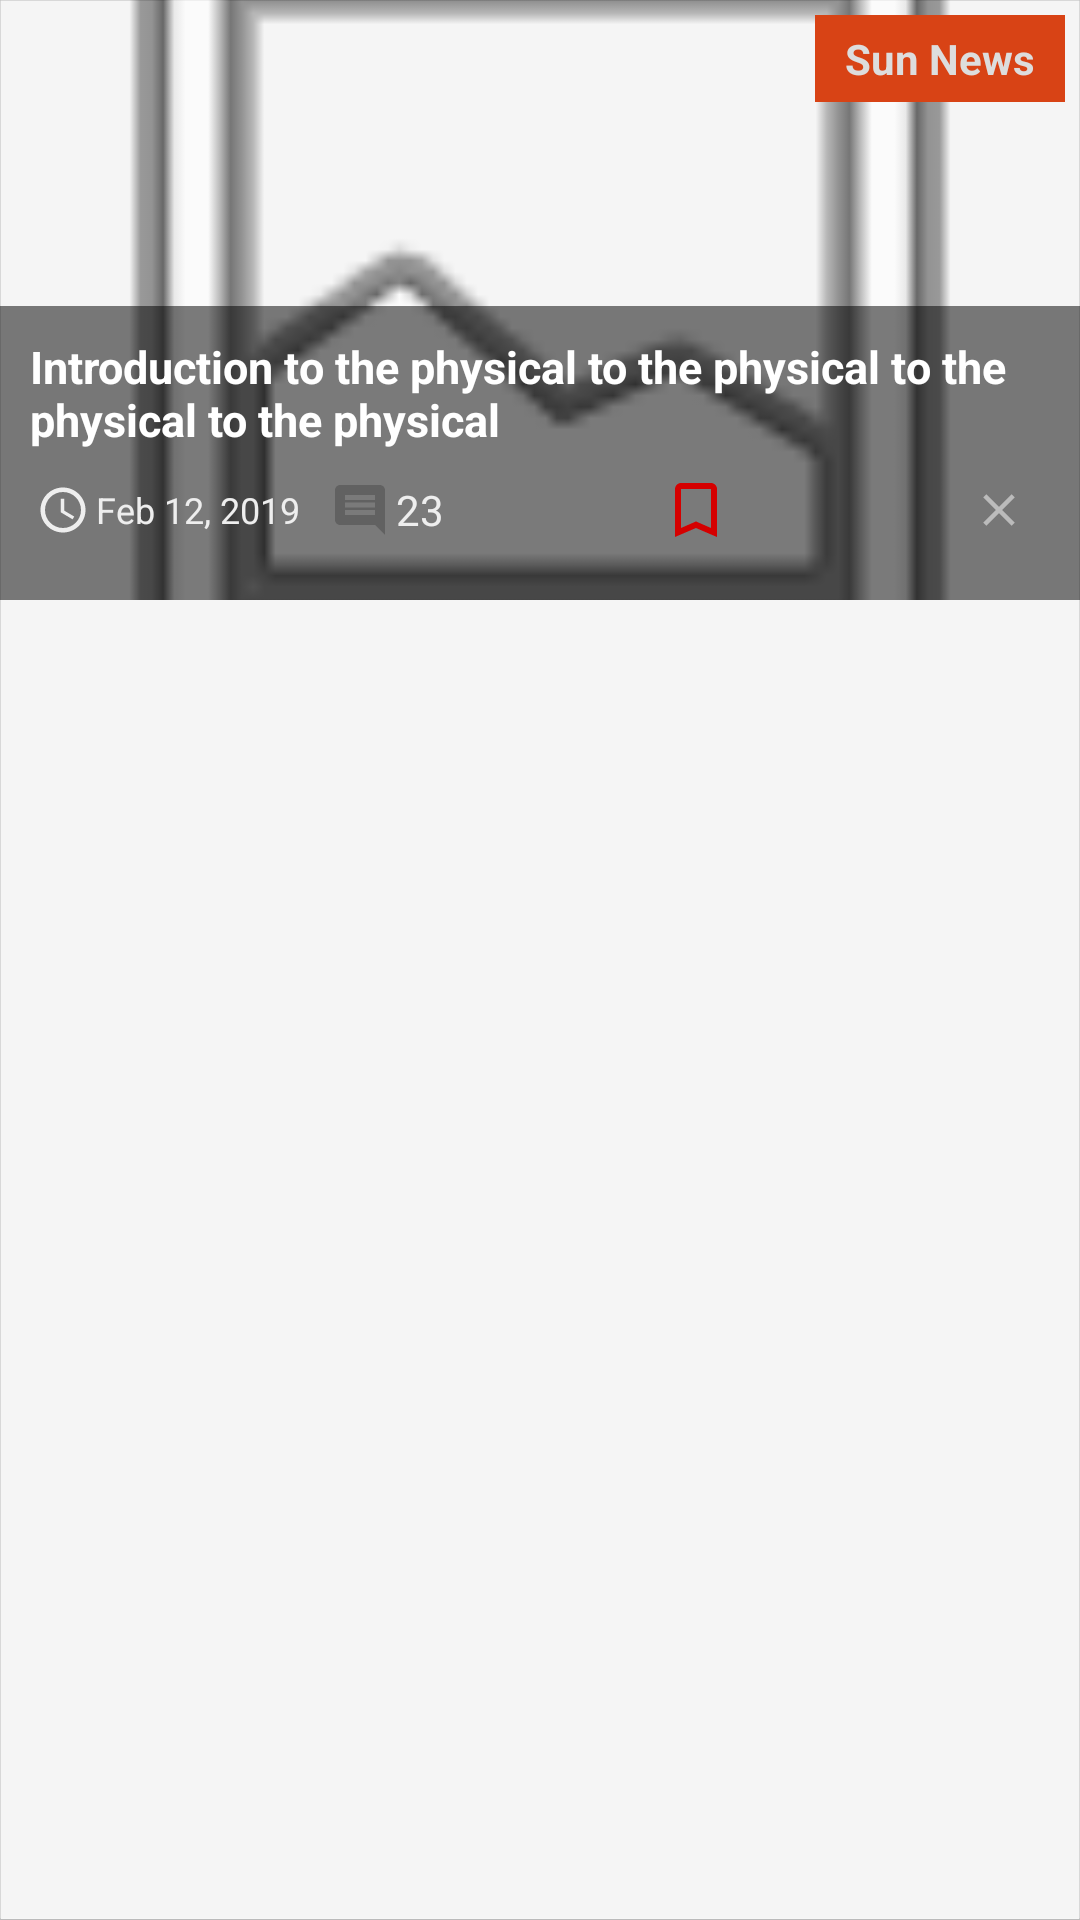

Screen size 1080px×1920px. Icon name, then its box in pixels as rect(x1, y1, x2, y2):
access time: rect(40, 487, 86, 533)
clear: rect(983, 494, 1015, 526)
comment: rect(335, 485, 385, 534)
